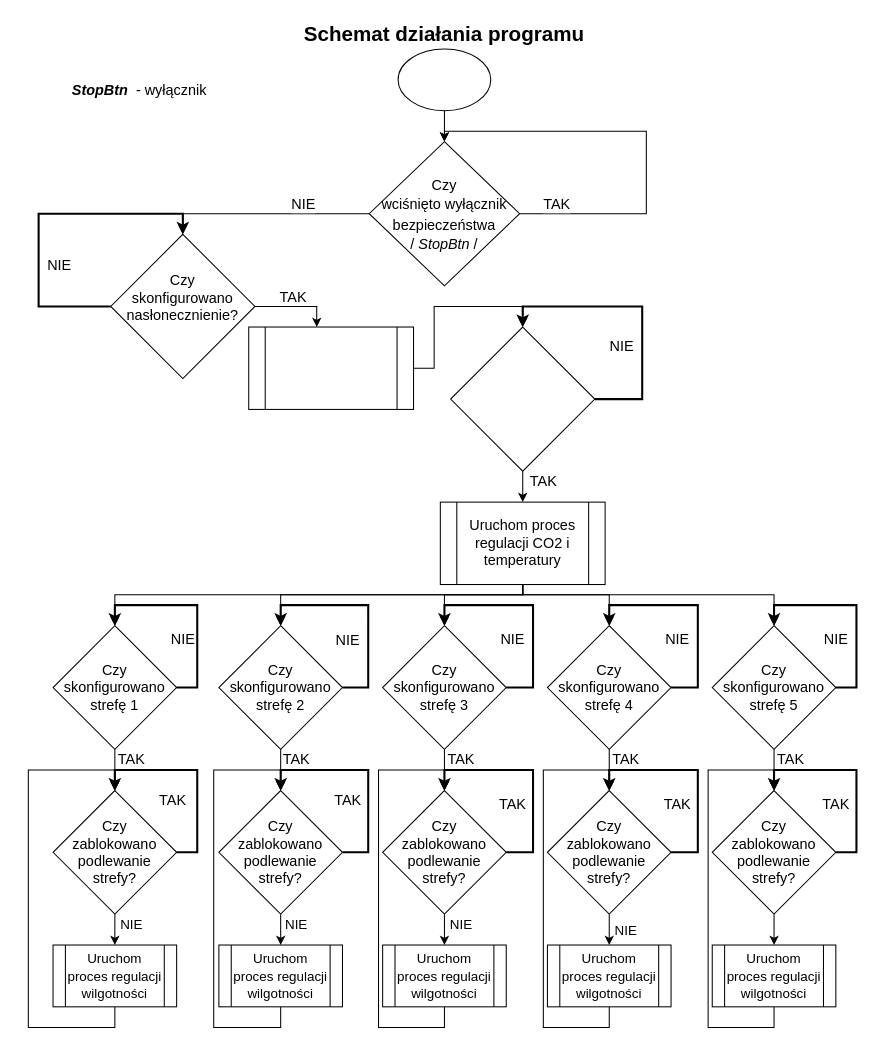
The diagram is 883 pixels wide and 1054 high, and some of its shapes have lost their labels. The shapes that lost their labels are listed below. From the top down, each one's box as (x1, y1, x2, y2) in pixels, then its label:
(397, 48, 491, 111): Start
(248, 326, 414, 409): Uruchom proces regulacji nasłonecznienia
(450, 326, 595, 471): Czy skonfigurowano CO2 i temperature?
